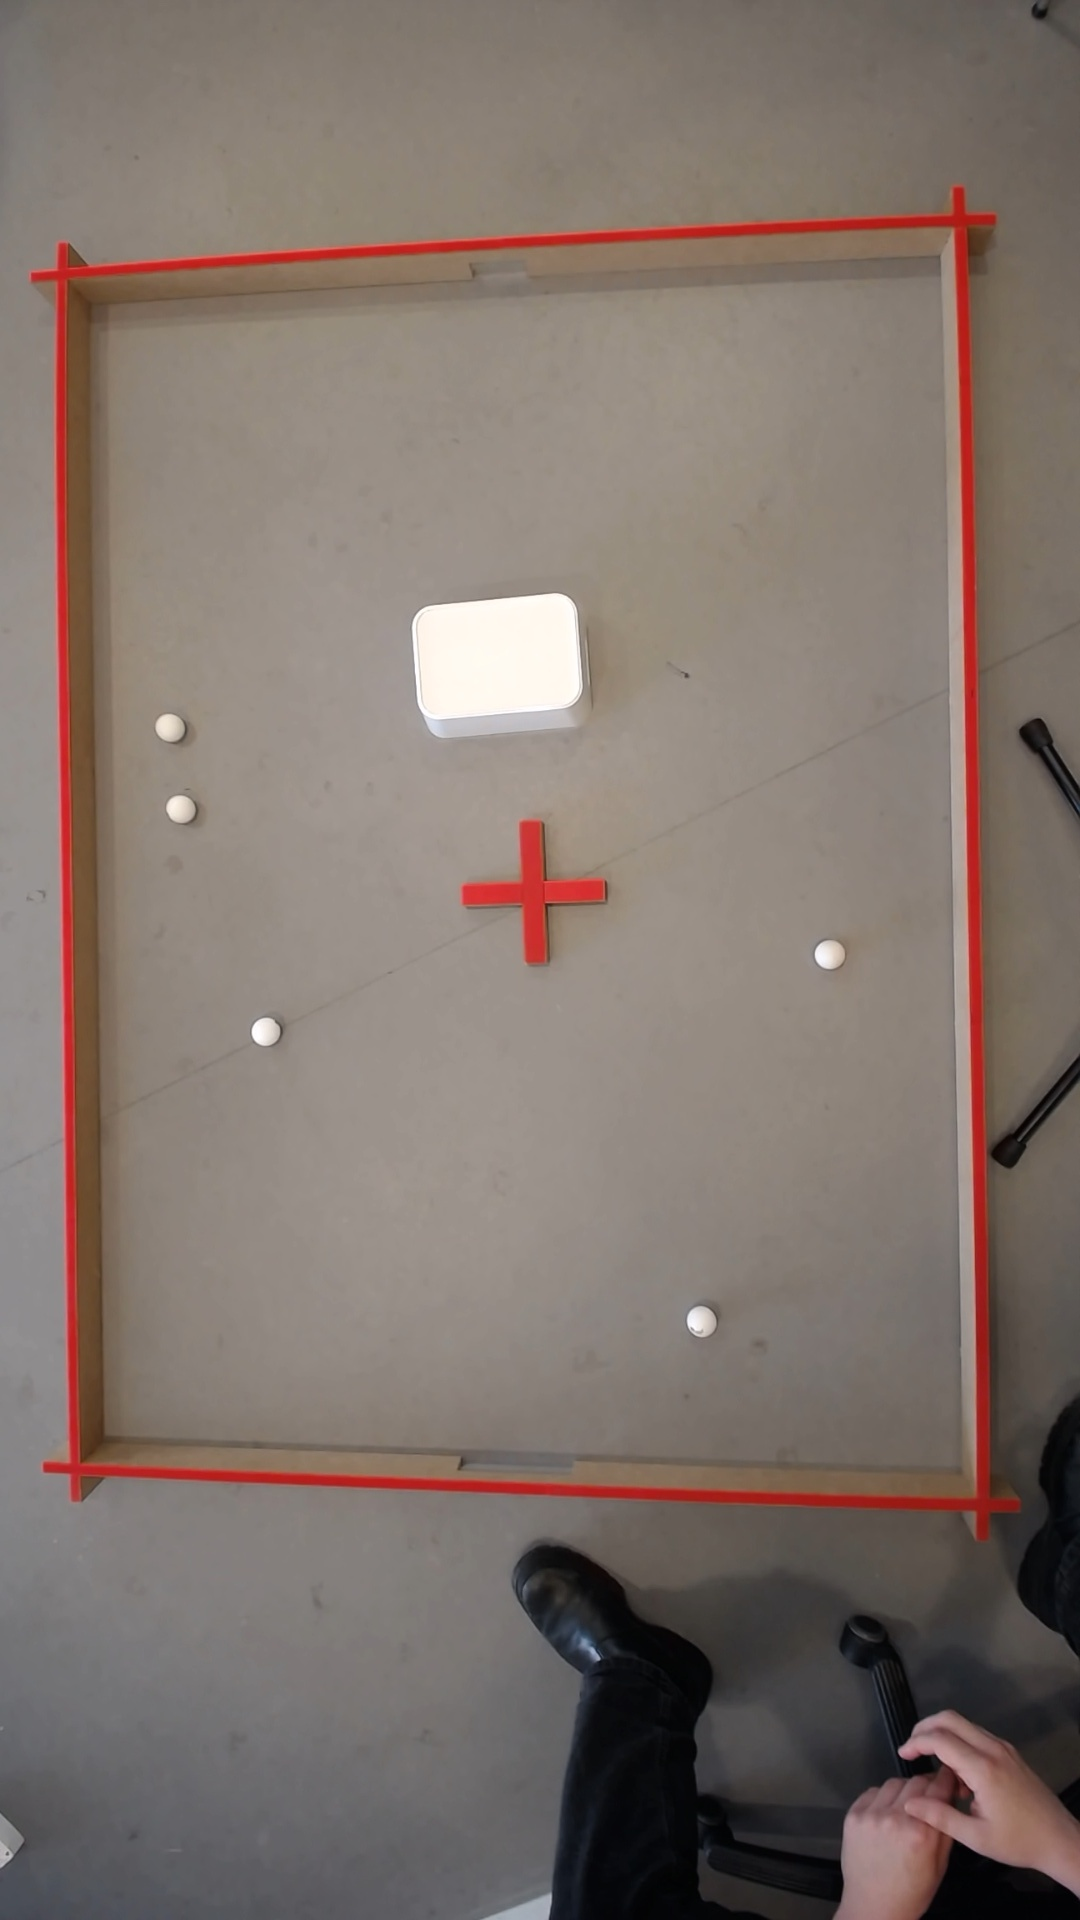balls: (406, 588, 587, 737), (247, 1013, 278, 1047), (810, 939, 840, 971), (161, 791, 190, 822), (683, 1304, 712, 1333), (152, 711, 181, 740)
car: (932, 1743, 964, 1772)
